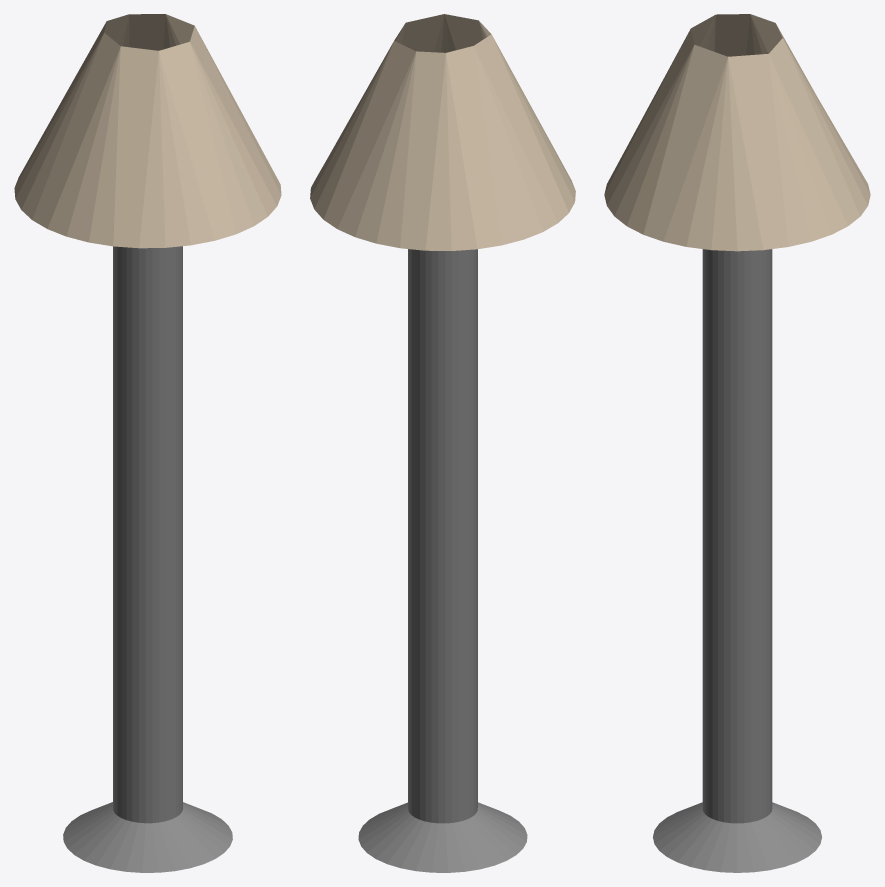
File: stehlampe.fbx
3 renders of one model, left to right at view 1: azimuth 30°, elevation 25°; view 2: azimuth 150°, elevation 25°; view 3: azimuth 270°, elevation 25°, orthographic.
Parts seen in each view (by area): view 1: Cone; view 2: Cone; view 3: Cone.
Part boxes in pixels (<box>): Cone: <box>14,14,281,872</box>; Cone: <box>310,14,575,872</box>; Cone: <box>604,14,870,872</box>.
Size of the model in its own units: 50 by 167 by 50.
